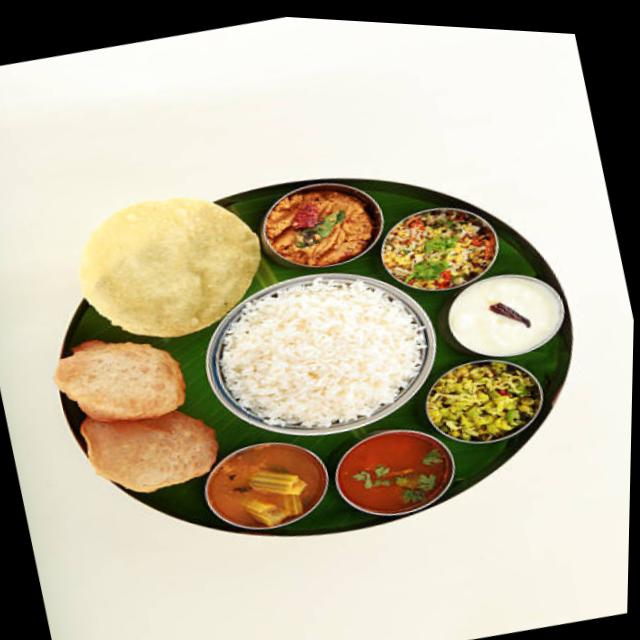CURD: (452, 277, 554, 355)
PAPADAM: (82, 202, 261, 335)
POORI: (54, 341, 214, 491)
RED CHUTNEY: (274, 192, 365, 264)
RICE: (221, 282, 423, 421)
SAMBAR: (207, 449, 318, 525)
